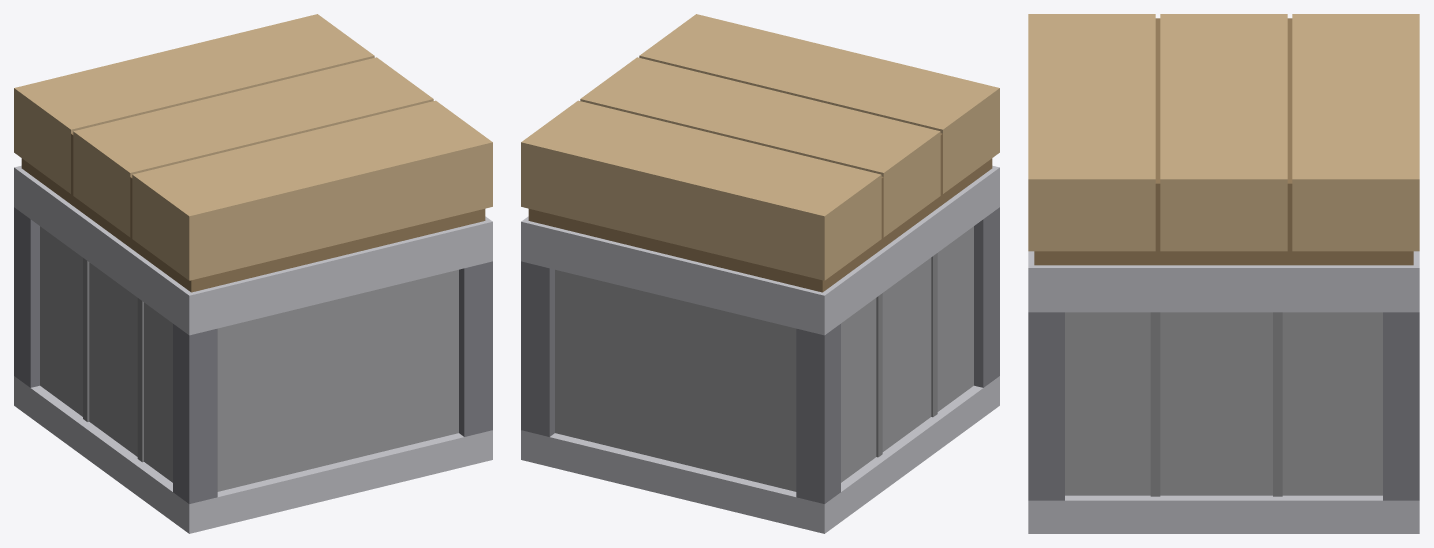
The model's file is piston_held.gltf.
The picture shows the model from 3 angles, left to right: view 1: azimuth 30°, elevation 25°; view 2: azimuth 150°, elevation 25°; view 3: azimuth 270°, elevation 25°; orthographic projection. The views are drawn at different scales.
Visible parts, largest first — view 1: cinnabar_piston_held; view 2: cinnabar_piston_held; view 3: cinnabar_piston_held.
Part boxes in pixels (<box>): cinnabar_piston_held: <box>14,14,492,533</box>; cinnabar_piston_held: <box>521,14,999,533</box>; cinnabar_piston_held: <box>1028,14,1419,533</box>.
Size of the model in its own units: 0.16 by 0.16 by 0.16.
